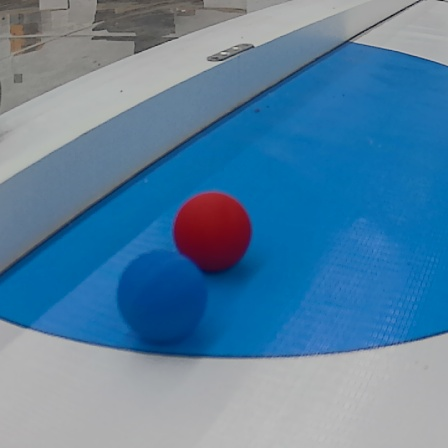blue: (120, 252, 210, 348)
blue_base: (3, 42, 448, 365)
red: (174, 189, 260, 274)
